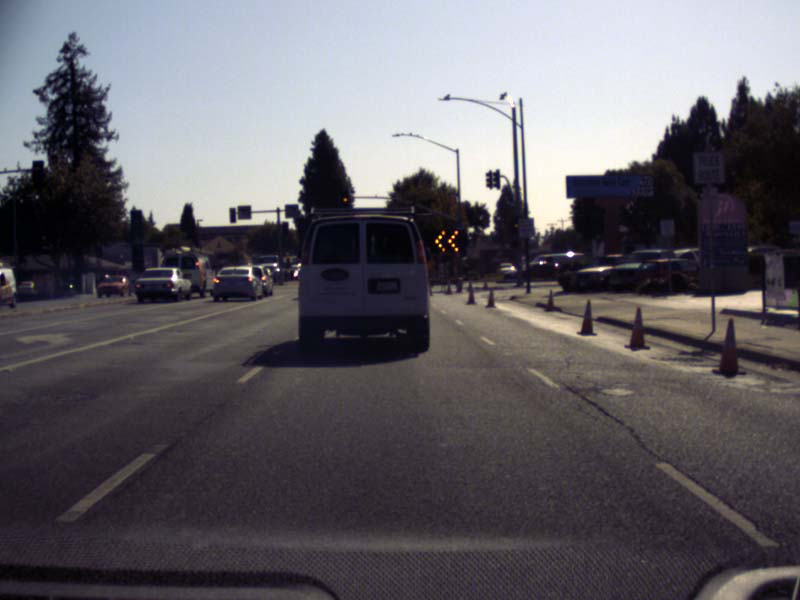Yellow: (341, 189, 348, 207), (512, 216, 519, 234)
